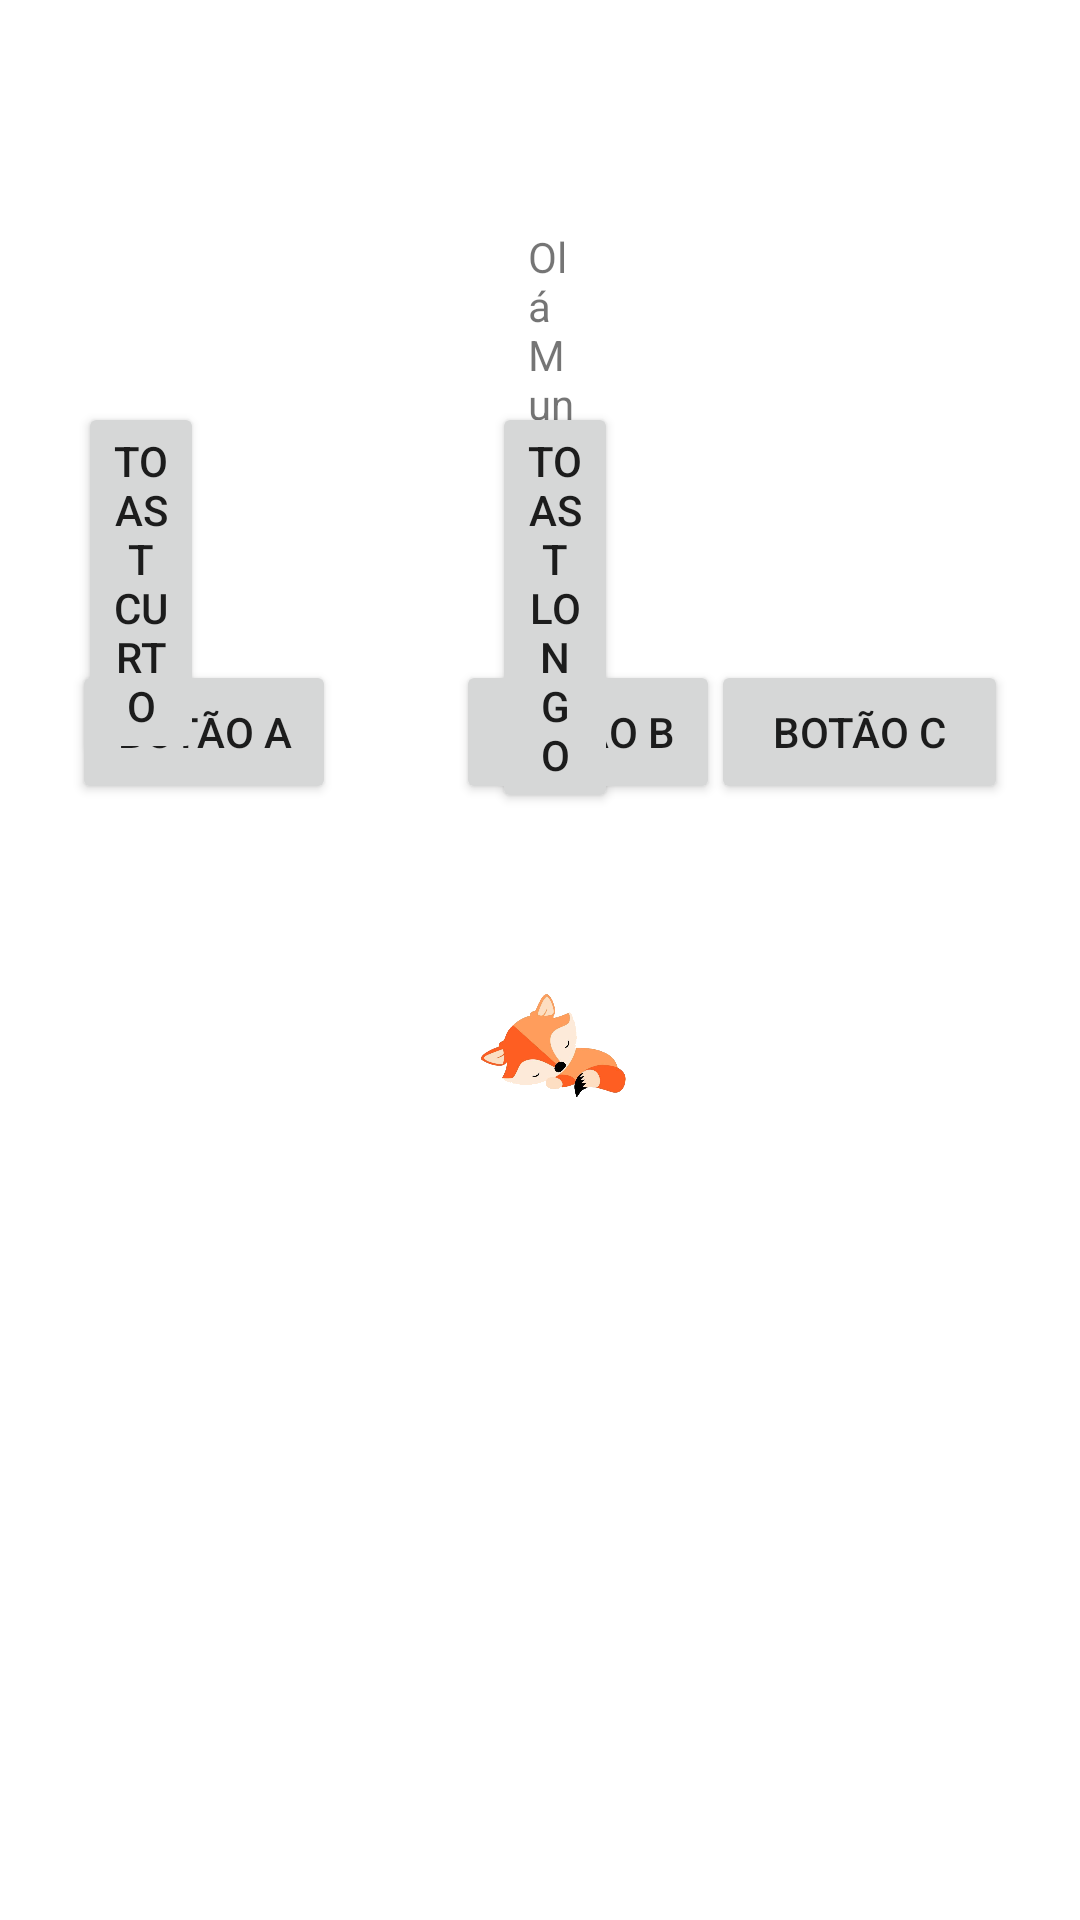

Screen size 1080 × 1920. Icon name, then its center in pixels as [x,y]:
raposa: [553,1045]
